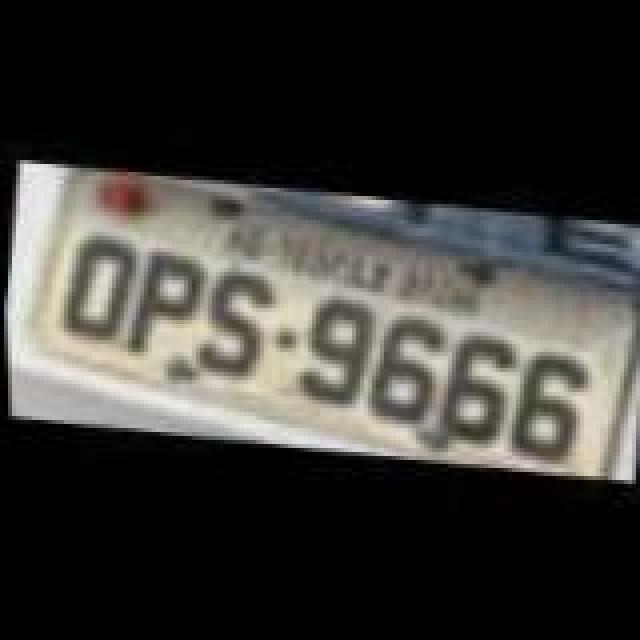6: (494, 342, 594, 466), (426, 326, 522, 454), (352, 300, 444, 432)
9: (288, 286, 388, 418)
O: (42, 226, 138, 350)
P: (116, 246, 212, 366)
S: (174, 258, 282, 390)
